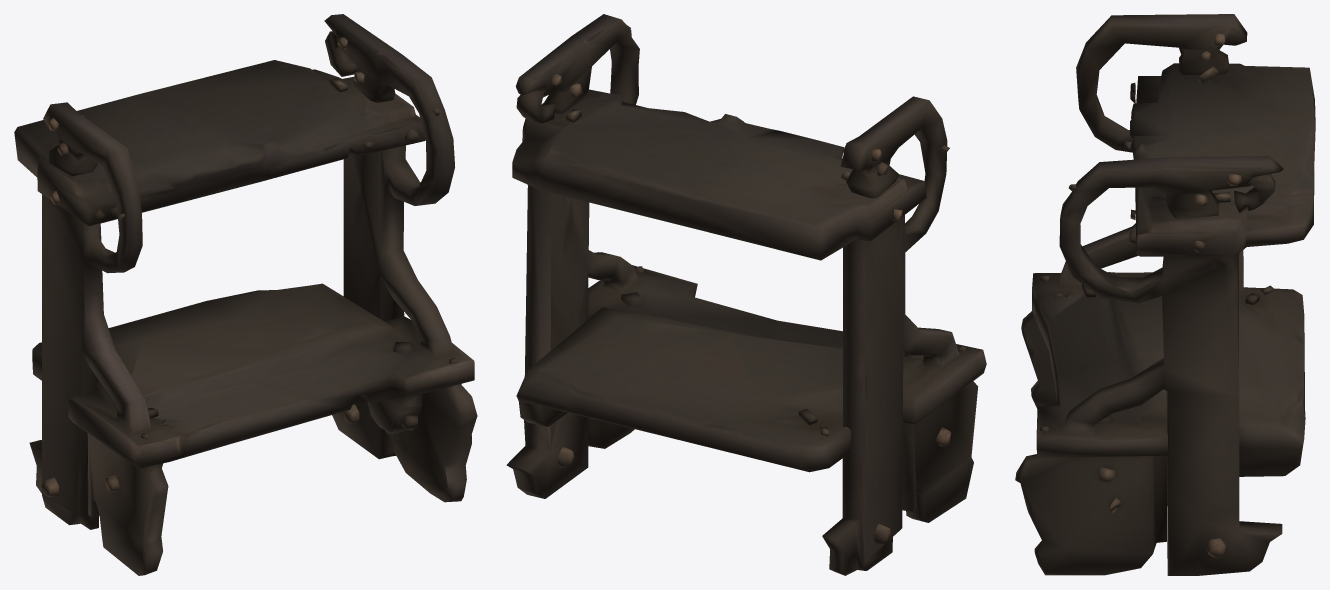
File: side_step.glb
The picture shows the model from 3 angles, left to right: view 1: azimuth 30°, elevation 25°; view 2: azimuth 150°, elevation 25°; view 3: azimuth 270°, elevation 25°; orthographic projection. The views are drawn at different scales.
Parts seen in each view (by area): view 1: side_step_LOD0; view 2: side_step_LOD0; view 3: side_step_LOD0.
Part boxes in pixels (x1,y1,x2,y2): side_step_LOD0: (14, 14, 477, 575); side_step_LOD0: (506, 14, 986, 575); side_step_LOD0: (1015, 14, 1315, 575).
Size of what is drawn, in the model's own units: 1.07 by 1.2 by 0.7966.
Materials: 1 (1 with a texture image).
